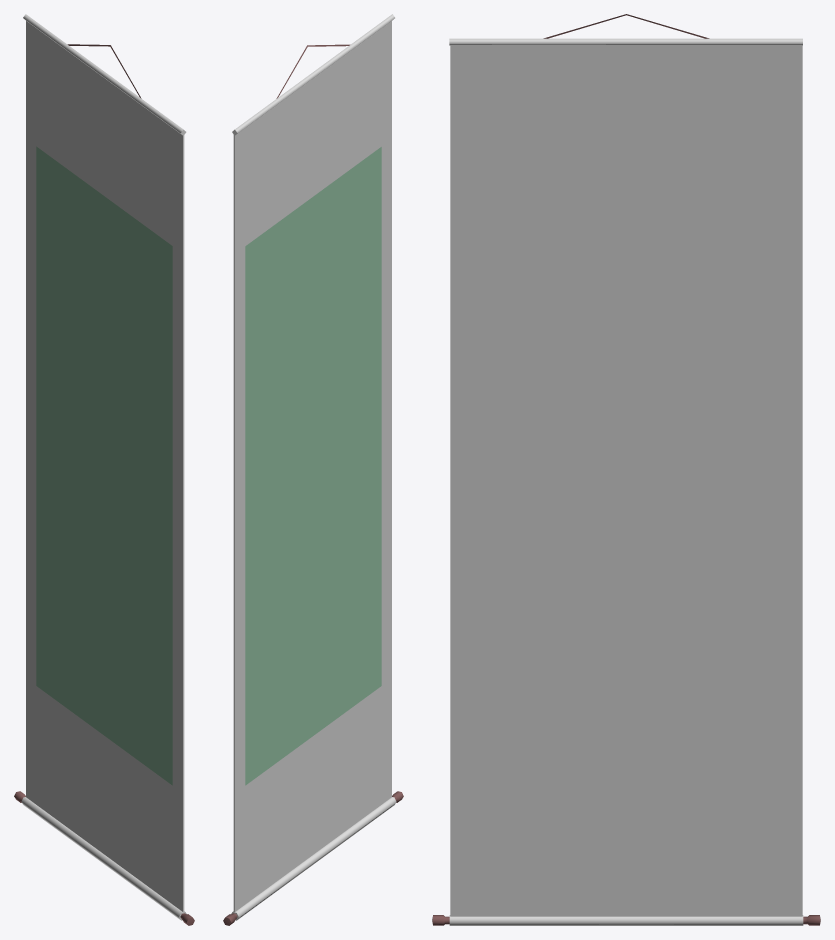
3 renders of one model, left to right at view 1: azimuth 30°, elevation 25°; view 2: azimuth 150°, elevation 25°; view 3: azimuth 270°, elevation 25°, orthographic. The views are drawn at different scales.
Visible parts, largest first — view 1: GH0302; view 2: GH0302; view 3: GH0302.
Boxes of the visible parts, x1,y1,x2,y2 form: GH0302: (14, 14, 194, 925); GH0302: (223, 14, 403, 925); GH0302: (432, 14, 820, 925).
Size of the model in its own units: 2.45 by 70 by 182.
